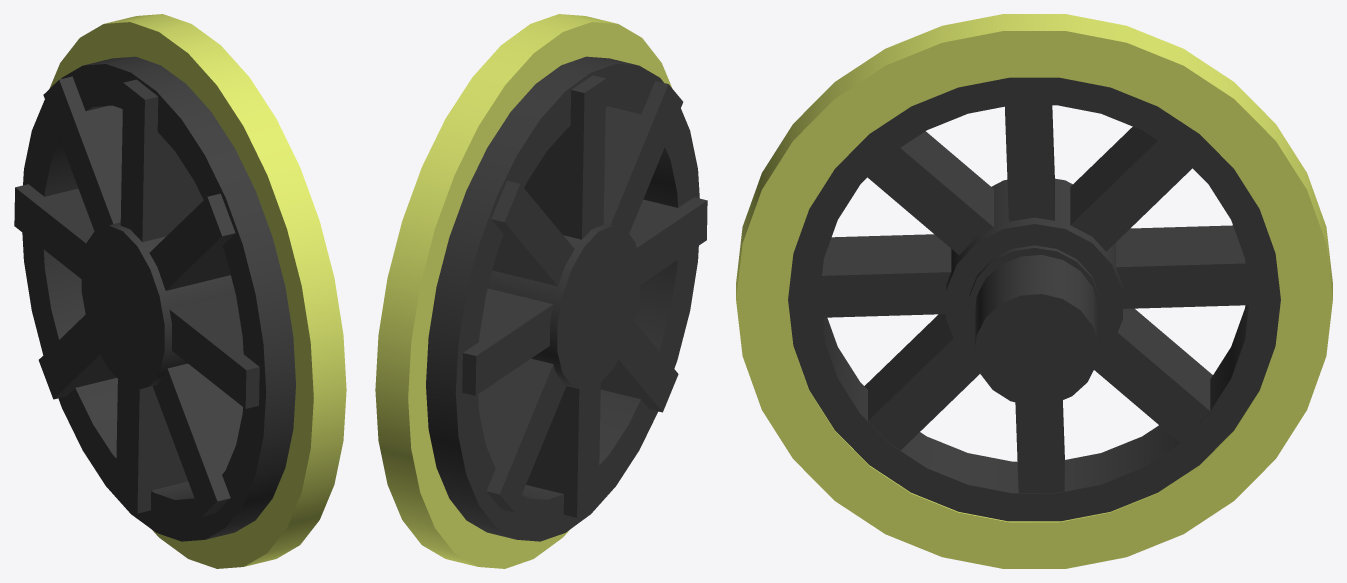
File: Loc_r3.fbx
3 views of the same model, side by side, from view 1: azimuth 30°, elevation 25°; view 2: azimuth 150°, elevation 25°; view 3: azimuth 270°, elevation 25° (orthographic). The views are drawn at different scales.
Parts seen in each view (by area): view 1: Cylinder058; view 2: Cylinder058; view 3: Cylinder058.
Boxes of the visible parts, box(x1,y1,x2,y2) form: Cylinder058: box(14, 14, 346, 568); Cylinder058: box(375, 14, 707, 568); Cylinder058: box(736, 14, 1332, 568).
Bounding box in the file's own units: 222 × 619 × 622.
